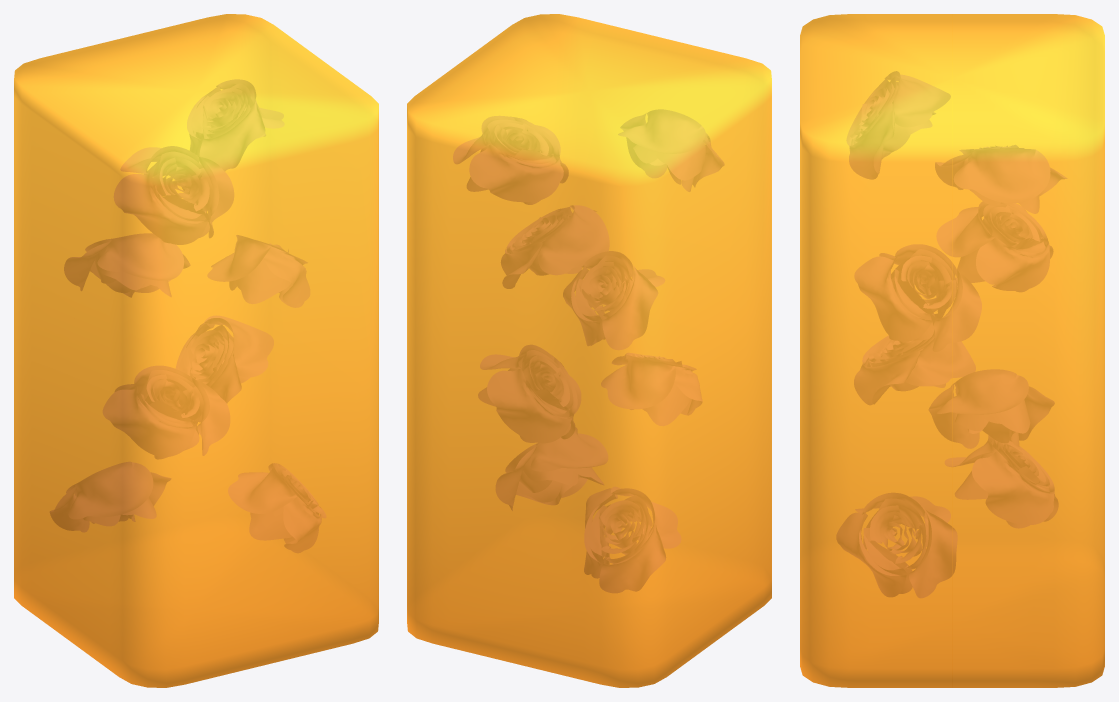
Rendered from gold-bottle-eight-flowers.glb.
The picture shows the model from 3 angles, left to right: view 1: azimuth 30°, elevation 25°; view 2: azimuth 150°, elevation 25°; view 3: azimuth 270°, elevation 25°; orthographic projection. The views are drawn at different scales.
Parts seen in each view (by area): view 1: Golden liquid · before overflow, User OBJ rose 7 of 8, User OBJ rose 3 of 8, User OBJ rose 2 of 8, User OBJ rose 8 of 8, User OBJ rose 5 of 8, User OBJ rose 1 of 8, User OBJ rose 4 of 8, User OBJ rose 6 of 8; view 2: Golden liquid · before overflow, User OBJ rose 1 of 8, User OBJ rose 8 of 8, User OBJ rose 4 of 8, User OBJ rose 5 of 8, User OBJ rose 6 of 8, User OBJ rose 2 of 8, User OBJ rose 7 of 8, User OBJ rose 3 of 8; view 3: Golden liquid · before overflow, User OBJ rose 6 of 8, User OBJ rose 2 of 8, User OBJ rose 5 of 8, User OBJ rose 4 of 8, User OBJ rose 1 of 8, User OBJ rose 7 of 8, User OBJ rose 8 of 8, User OBJ rose 3 of 8.
Part boxes in pixels (x1,y1,x2,y2): Golden liquid · before overflow: [14, 14, 378, 687]; User OBJ rose 7 of 8: [114, 146, 233, 244]; User OBJ rose 3 of 8: [103, 366, 229, 458]; User OBJ rose 2 of 8: [228, 463, 325, 552]; User OBJ rose 8 of 8: [187, 79, 284, 170]; User OBJ rose 5 of 8: [64, 233, 189, 297]; User OBJ rose 1 of 8: [50, 462, 170, 531]; User OBJ rose 4 of 8: [176, 316, 273, 421]; User OBJ rose 6 of 8: [207, 235, 309, 307]; Golden liquid · before overflow: [407, 14, 771, 687]; User OBJ rose 1 of 8: [584, 487, 681, 592]; User OBJ rose 8 of 8: [453, 116, 568, 204]; User OBJ rose 4 of 8: [478, 345, 580, 442]; User OBJ rose 5 of 8: [563, 251, 664, 349]; User OBJ rose 6 of 8: [501, 205, 609, 288]; User OBJ rose 2 of 8: [496, 428, 607, 510]; User OBJ rose 7 of 8: [618, 109, 724, 191]; User OBJ rose 3 of 8: [601, 353, 702, 425]; Golden liquid · before overflow: [800, 14, 1104, 687]; User OBJ rose 6 of 8: [854, 244, 981, 351]; User OBJ rose 2 of 8: [836, 493, 957, 597]; User OBJ rose 5 of 8: [936, 202, 1052, 291]; User OBJ rose 4 of 8: [929, 369, 1054, 448]; User OBJ rose 1 of 8: [945, 436, 1058, 528]; User OBJ rose 7 of 8: [846, 71, 950, 179]; User OBJ rose 8 of 8: [935, 145, 1066, 213]; User OBJ rose 3 of 8: [854, 332, 975, 404].
Size of what is drawn, in the model's own units: 0.0892 by 0.176 by 0.0892.
